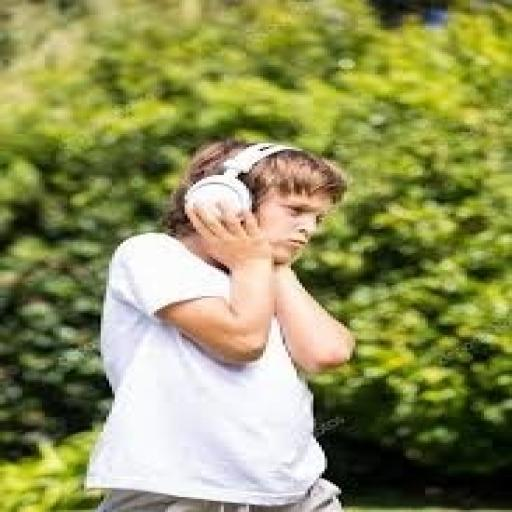listening_to_music: (81, 138, 361, 510)
